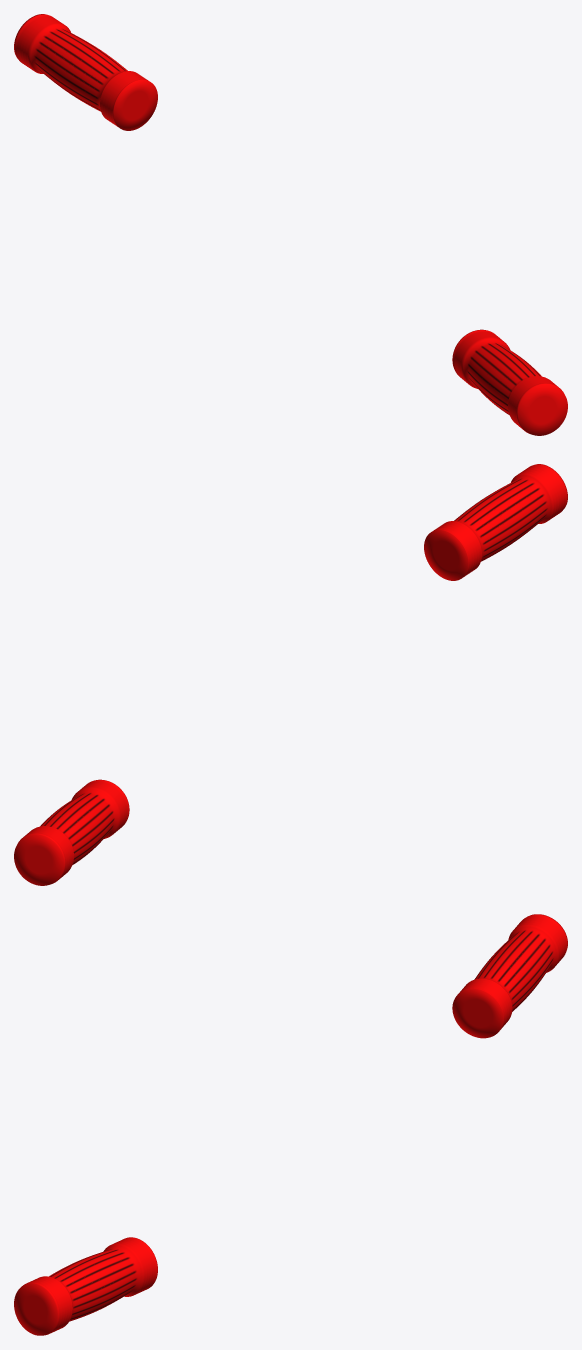
Rendered from barrel.glb.
The picture shows the model from 3 angles, top to bottom: view 1: azimuth 30°, elevation 25°; view 2: azimuth 150°, elevation 25°; view 3: azimuth 330°, elevation 25°; orthographic projection.
Visible parts, largest first — view 1: grip_barrel; view 2: grip_barrel; view 3: grip_barrel.
Part boxes in pixels (x1,y1,x2,y2): grip_barrel: (14,14,567,435); grip_barrel: (14,464,567,885); grip_barrel: (14,914,567,1335).
Bounding box in the file's own units: 0.0567 × 0.0505 × 0.7725.
1 material, 1 textured.
